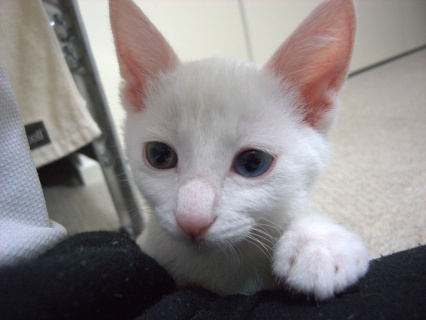Cat: (100, 0, 372, 301)
